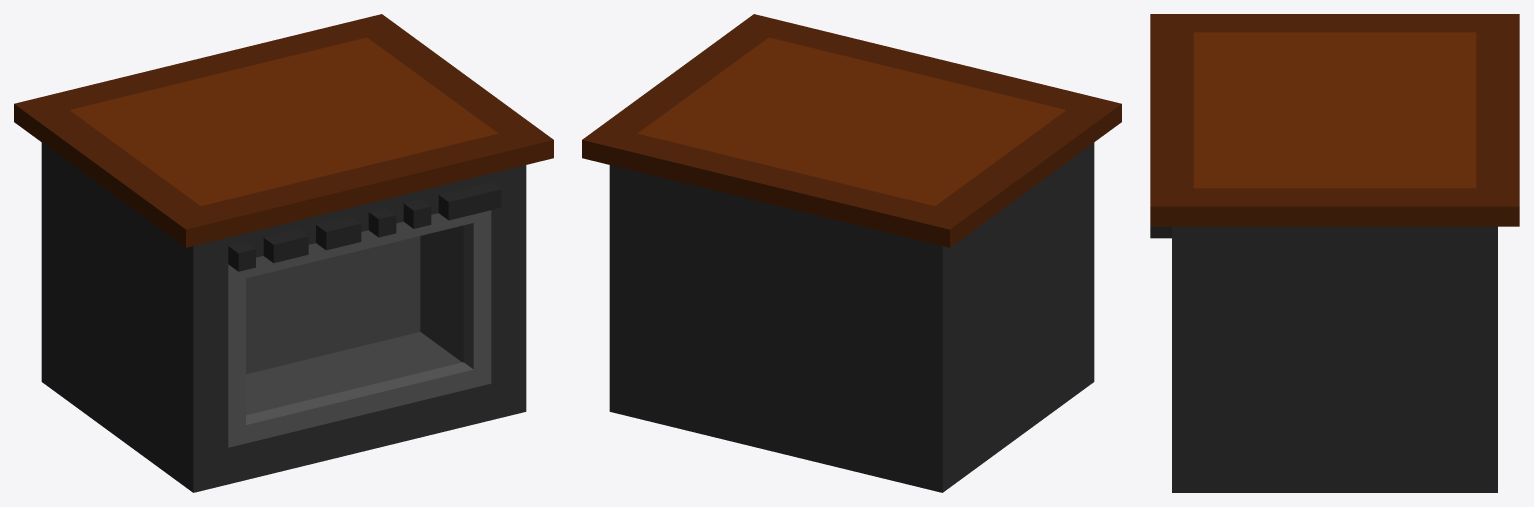
File: oven.obj
3 views of the same model, side by side, from view 1: azimuth 30°, elevation 25°; view 2: azimuth 150°, elevation 25°; view 3: azimuth 270°, elevation 25° (orthographic). The views are drawn at different scales.
Size of the model in its own units: 2.1 by 1.6 by 1.7.
